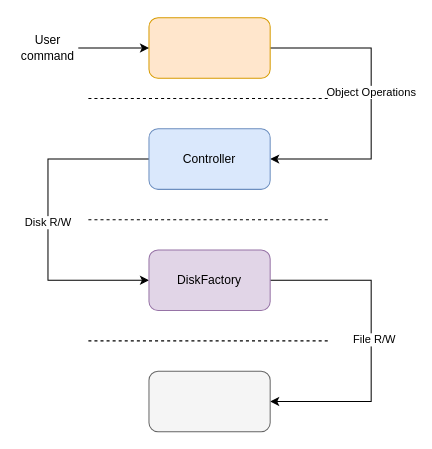
Some shapes in this 432 by 449 pixel diagram are drawn without their labels. Here are the shapes that lost their labels. From the top down, the box of each, then its label:
(148, 17, 270, 78): CLI
(148, 370, 270, 432): Files
